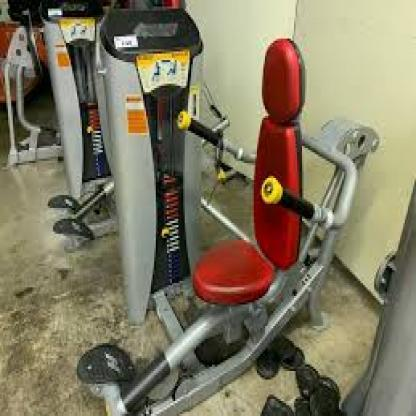seated dip machine: (66, 0, 382, 416)
